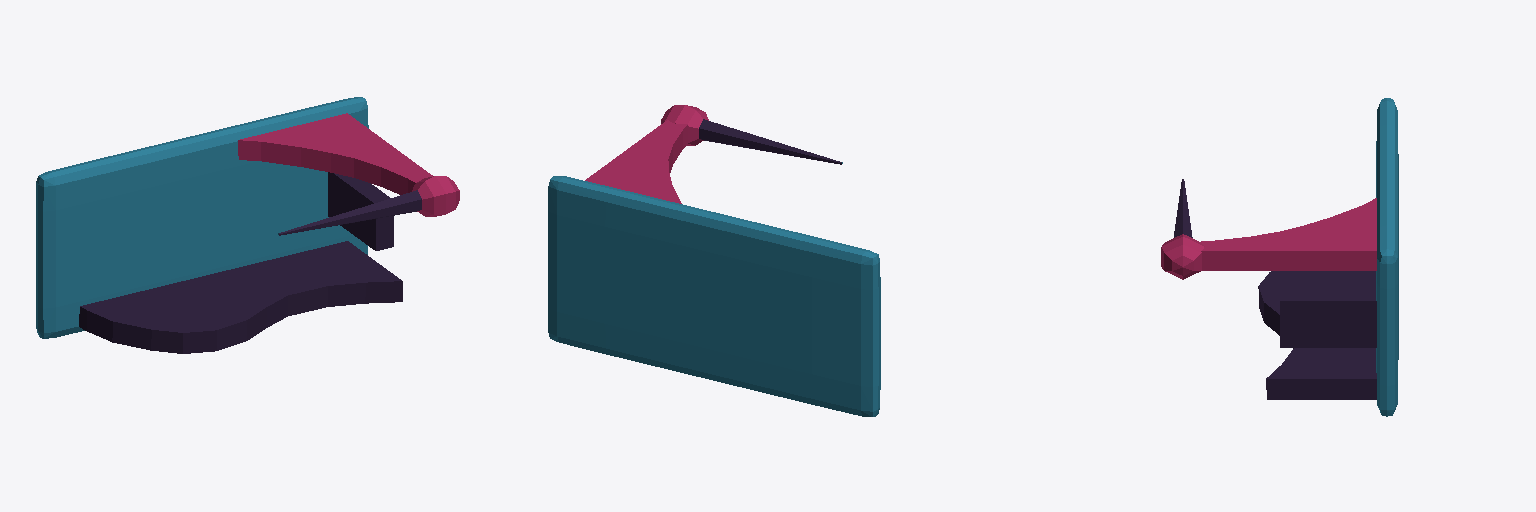
Rendered from reference.obj.
3 views of the same model, side by side, from view 1: azimuth 30°, elevation 25°; view 2: azimuth 150°, elevation 25°; view 3: azimuth 270°, elevation 25° (orthographic).
Parts seen in each view (by area): view 1: Cube.002; view 2: Cube.002; view 3: Cube.002.
Boxes of the visible parts, box(x1,y1,x2,y2) form: Cube.002: box(36, 97, 459, 353); Cube.002: box(548, 105, 880, 416); Cube.002: box(1161, 98, 1398, 416).
Bounding box in the file's own units: 1.85 × 0.8989 × 1.16.